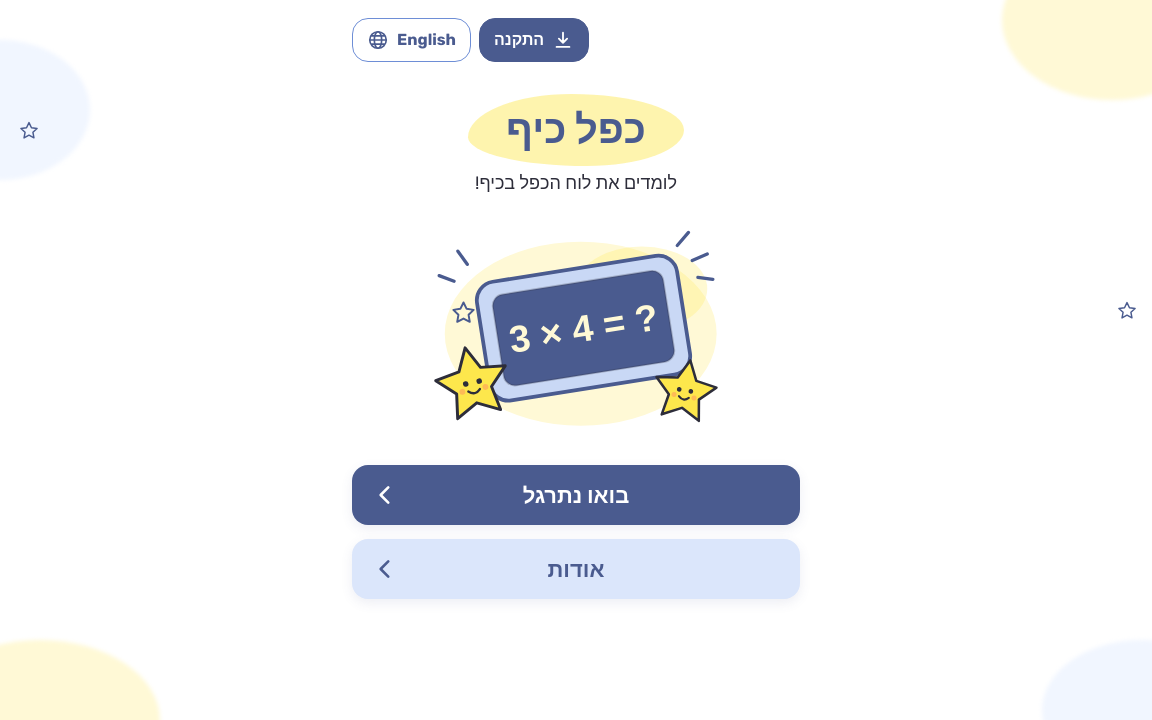
Test case: install button › appears in the top bar when installing is possible and opens the browser prompt
This screenshot has width=1152, height=720.
Click the button "התקנה": (534, 40) left=479, top=18, right=589, bottom=62
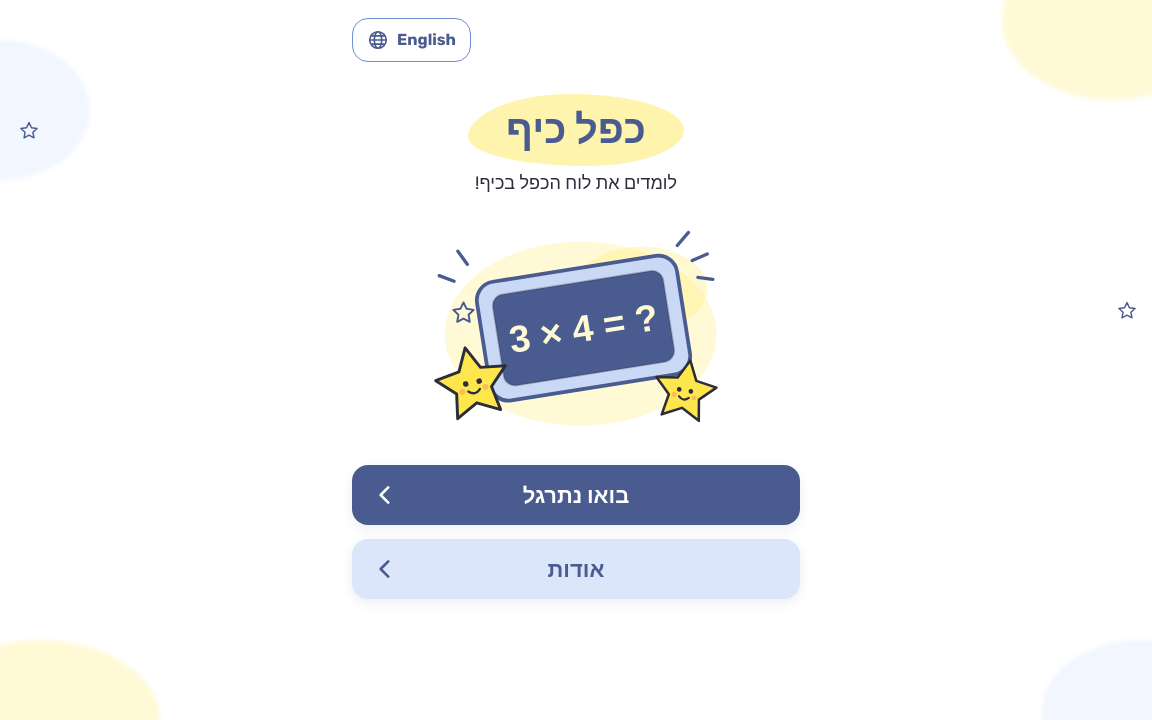
Check: the button "התקנה" is gone
